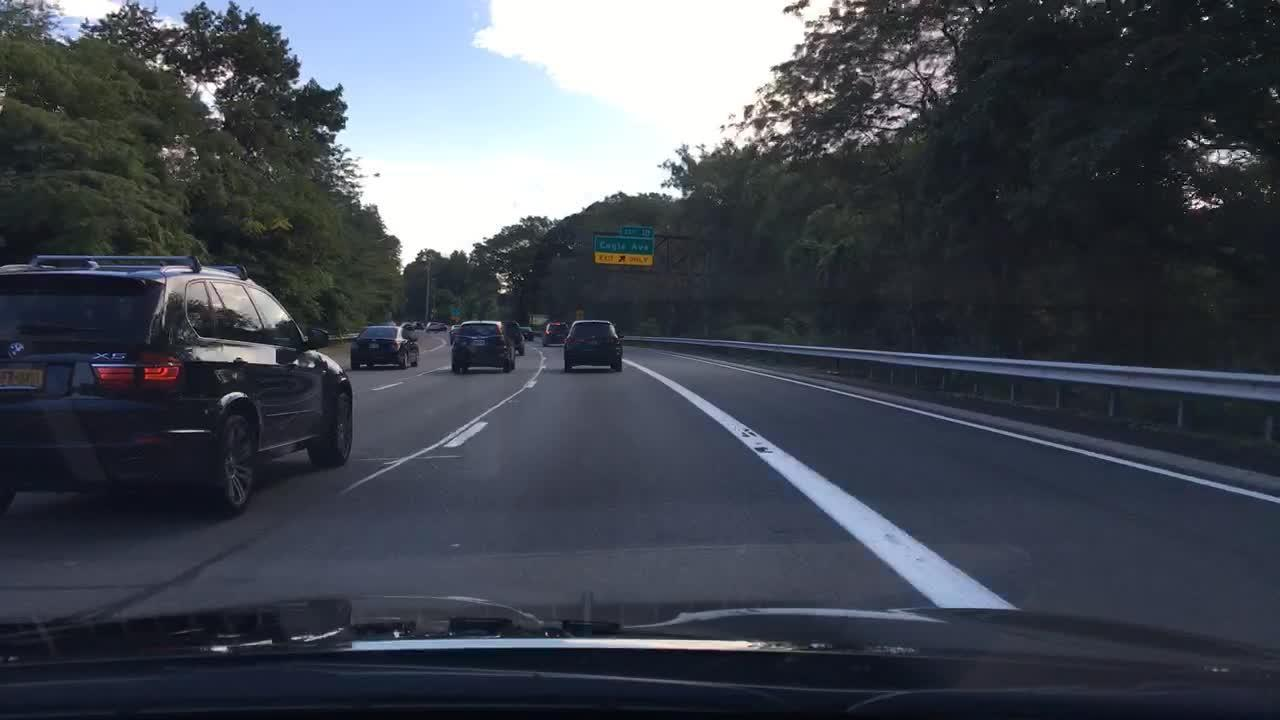bmw: (1, 339, 38, 368)
